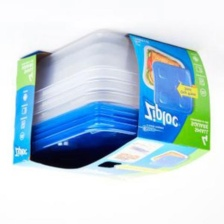plastic_box: (7, 24, 216, 190)
